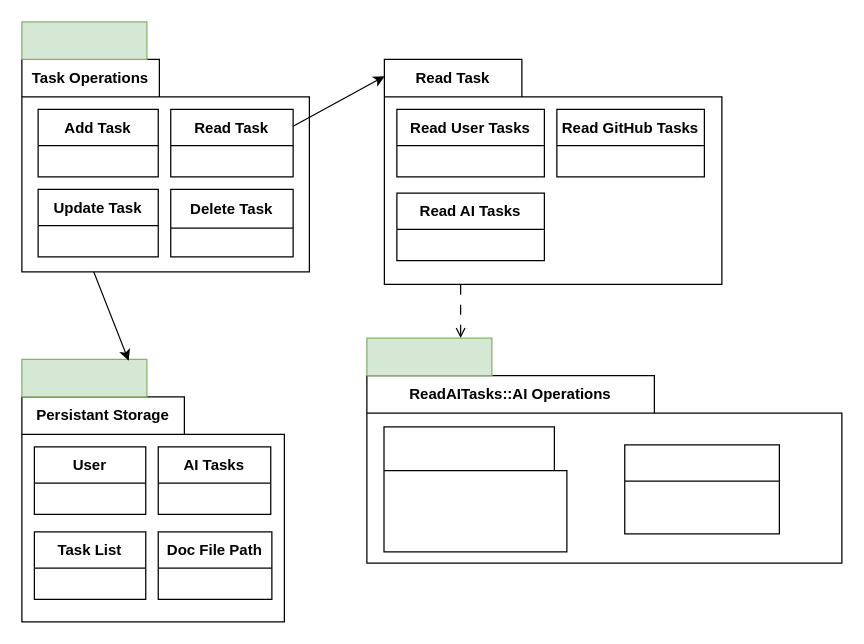
This 864x644 diagram has some shape labels left out. The shapes that lost their labels are listed below. From the top down, each one's centre as x and y in pixels, then its label:
At pixel 84 40: "PACKAGE A".
At pixel 429 356: "PACKAGE C".
At pixel 84 377: "PACKAGE B".
At pixel 475 489: "Python Document Extractor".
At pixel 701 489: "Generate Task List".
